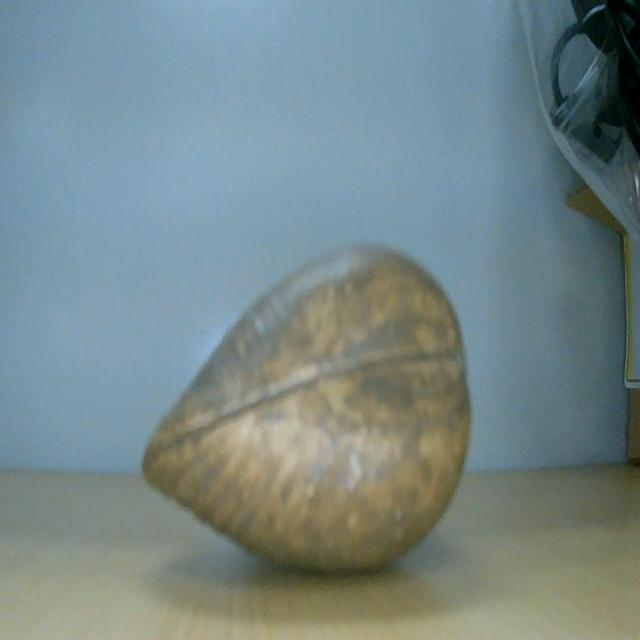clam: (142, 244, 470, 569)
